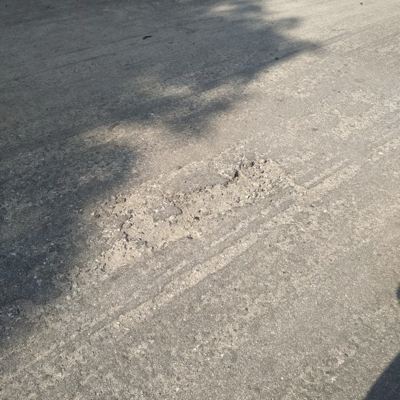pothole: (95, 155, 292, 274)
